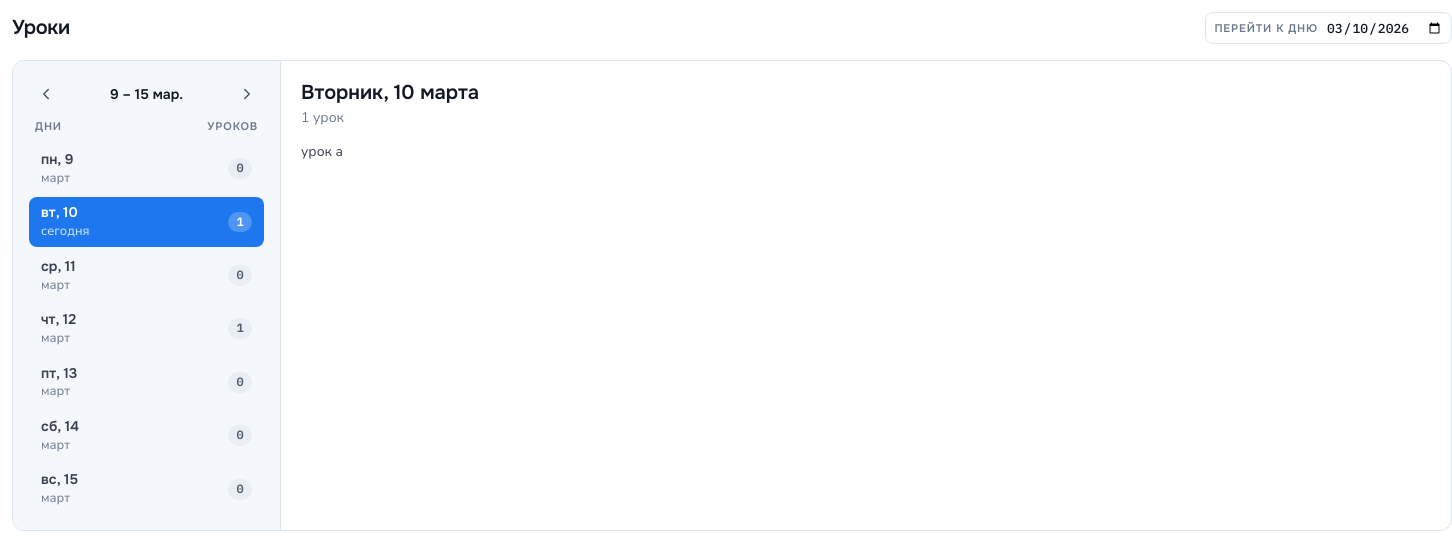
WeekCalendar › переключение дня внутри недели не ходит на сервер
Expected: the text "урок a" is shown, [301,142,343,161]
Step 1. Click the button "чт, 12" → (146, 329), box [29,304,264,354]
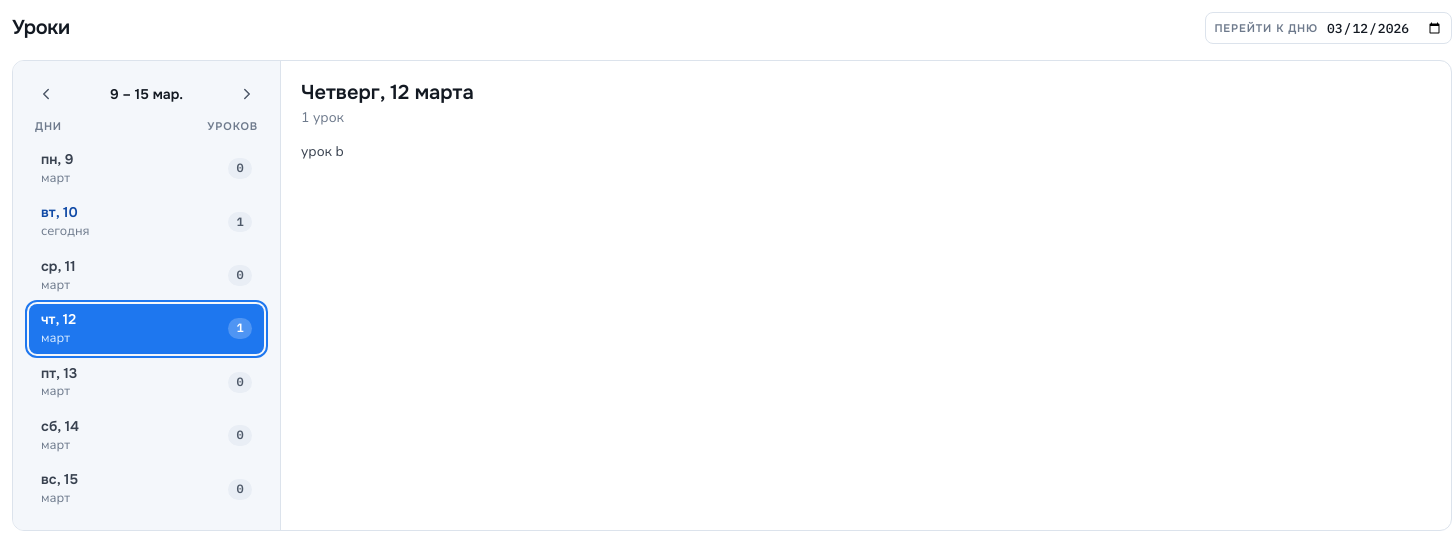
Now the text "урок b" is shown, box [301,142,344,161]
